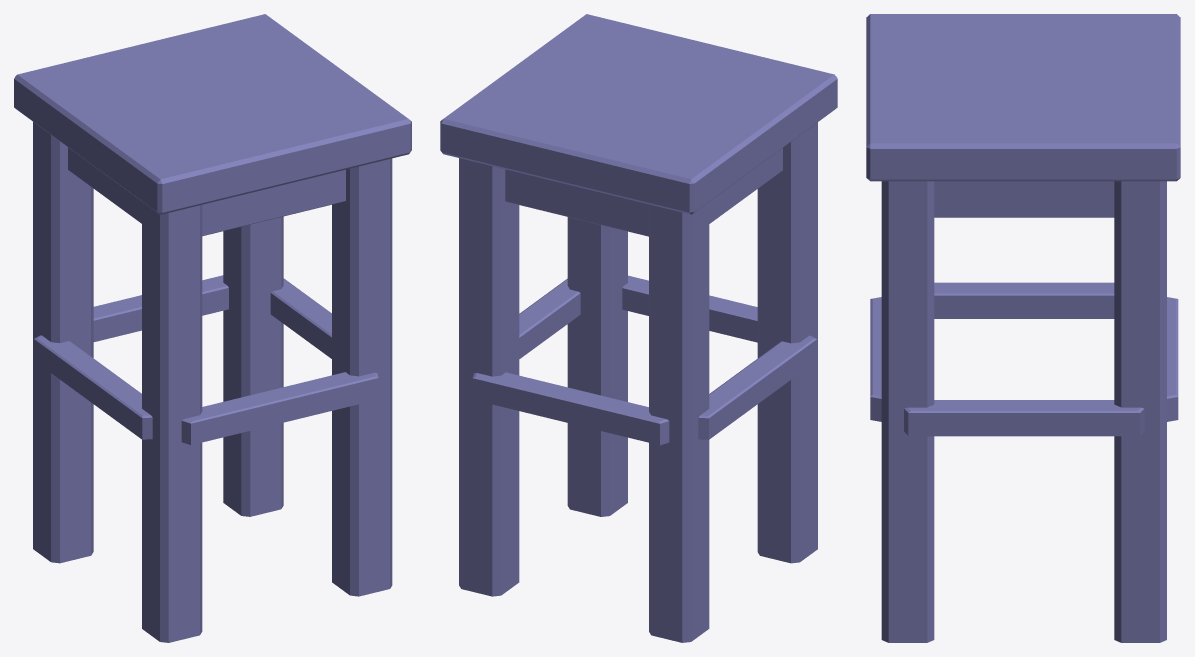
File: DeskStool.fbx
The picture shows the model from 3 angles, left to right: view 1: azimuth 30°, elevation 25°; view 2: azimuth 150°, elevation 25°; view 3: azimuth 270°, elevation 25°; orthographic projection. The views are drawn at different scales.
Parts seen in each view (by area): view 1: DeskStool; view 2: DeskStool; view 3: DeskStool.
Boxes of the visible parts, x1,y1,x2,y2 form: DeskStool: [14, 14, 411, 642]; DeskStool: [440, 14, 837, 642]; DeskStool: [866, 14, 1180, 642].
Size of the model in its own units: 30 by 53 by 30.
